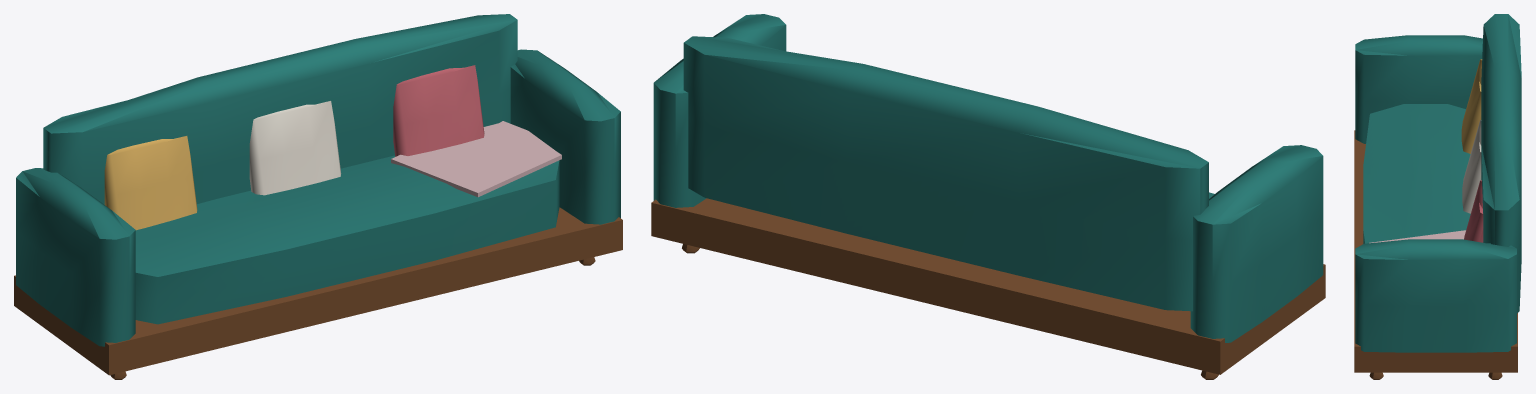
File: sofa.glb
3 renders of one model, left to right at view 1: azimuth 30°, elevation 25°; view 2: azimuth 150°, elevation 25°; view 3: azimuth 270°, elevation 25°, orthographic. The views are drawn at different scales.
Visible parts, largest first — view 1: furniture-sofa; view 2: furniture-sofa; view 3: furniture-sofa.
Boxes of the visible parts, x1,y1,x2,y2 form: furniture-sofa: [14, 14, 622, 379]; furniture-sofa: [651, 14, 1325, 379]; furniture-sofa: [1354, 14, 1521, 379].
Bounding box in the file's own units: 2.56 × 0.9591 × 0.8186.
